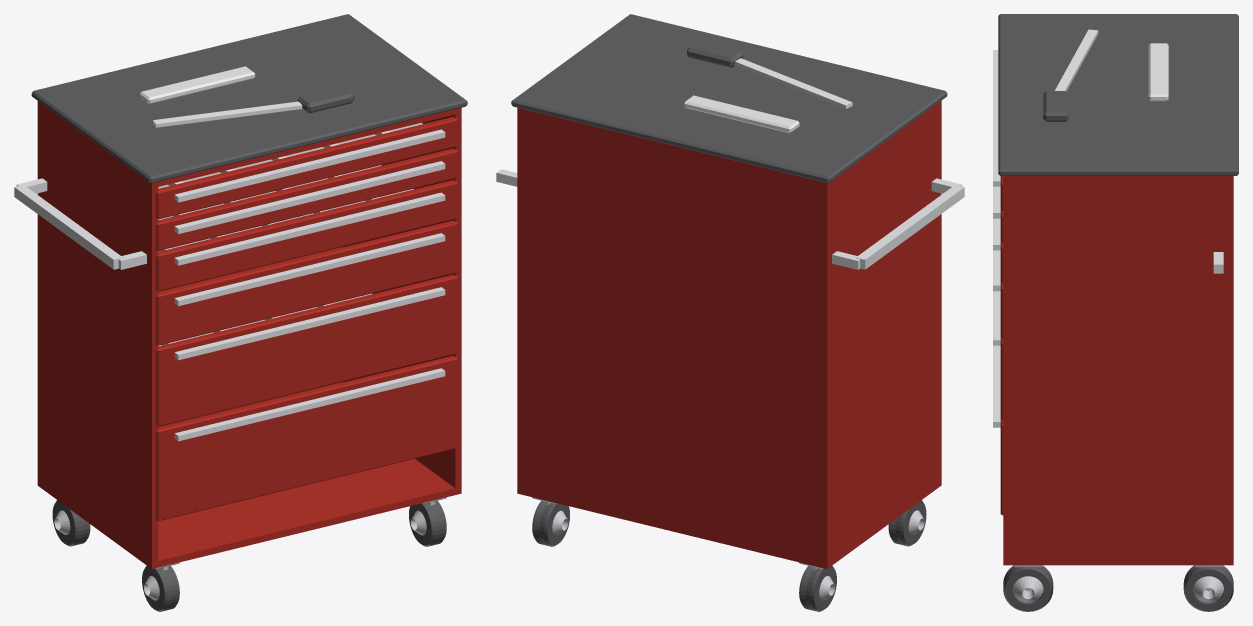
Rendered from carrinho_ferramentas.glb.
3 renders of one model, left to right at view 1: azimuth 30°, elevation 25°; view 2: azimuth 150°, elevation 25°; view 3: azimuth 270°, elevation 25°, orthographic.
Visible parts, largest first — view 1: carrinho_ferramentas_tinta_vermelha, carrinho_ferramentas_borracha, carrinho_ferramentas_gaveta_5_tinta_vermelha, carrinho_ferramentas_cromo, carrinho_ferramentas_gaveta_3_tinta_vermelha, carrinho_ferramentas_gaveta_1_tinta_vermelha, carrinho_ferramentas_aco_polido, carrinho_ferramentas_gaveta_1_cromo, carrinho_ferramentas_gaveta_3_cromo, carrinho_ferramentas_gaveta_5_cromo, carrinho_ferramentas_aco; view 2: carrinho_ferramentas_tinta_vermelha, carrinho_ferramentas_borracha, carrinho_ferramentas_cromo, carrinho_ferramentas_aco_polido, carrinho_ferramentas_aco; view 3: carrinho_ferramentas_tinta_vermelha, carrinho_ferramentas_borracha, carrinho_ferramentas_aco_polido, carrinho_ferramentas_cromo, carrinho_ferramentas_aco, carrinho_ferramentas_gaveta_1_cromo, carrinho_ferramentas_gaveta_5_cromo.
Boxes of the visible parts, x1=… form: carrinho_ferramentas_tinta_vermelha: x1=37, y1=101, x2=461, y2=568; carrinho_ferramentas_borracha: x1=31, y1=14, x2=467, y2=611; carrinho_ferramentas_gaveta_5_tinta_vermelha: x1=156, y1=274, x2=457, y2=426; carrinho_ferramentas_cromo: x1=14, y1=161, x2=445, y2=441; carrinho_ferramentas_gaveta_3_tinta_vermelha: x1=156, y1=180, x2=457, y2=291; carrinho_ferramentas_gaveta_1_tinta_vermelha: x1=156, y1=117, x2=457, y2=219; carrinho_ferramentas_aco_polido: x1=139, y1=66, x2=302, y2=127; carrinho_ferramentas_gaveta_1_cromo: x1=174, y1=129, x2=445, y2=202; carrinho_ferramentas_gaveta_3_cromo: x1=174, y1=192, x2=445, y2=265; carrinho_ferramentas_gaveta_5_cromo: x1=174, y1=287, x2=445, y2=360; carrinho_ferramentas_aco: x1=54, y1=497, x2=446, y2=600; carrinho_ferramentas_tinta_vermelha: x1=517, y1=101, x2=941, y2=568; carrinho_ferramentas_borracha: x1=511, y1=14, x2=947, y2=611; carrinho_ferramentas_cromo: x1=496, y1=169, x2=964, y2=269; carrinho_ferramentas_aco_polido: x1=684, y1=58, x2=852, y2=133; carrinho_ferramentas_aco: x1=532, y1=497, x2=924, y2=600; carrinho_ferramentas_tinta_vermelha: x1=1000, y1=176, x2=1233, y2=565; carrinho_ferramentas_borracha: x1=998, y1=14, x2=1238, y2=611; carrinho_ferramentas_aco_polido: x1=1055, y1=29, x2=1168, y2=101; carrinho_ferramentas_cromo: x1=993, y1=186, x2=1223, y2=427; carrinho_ferramentas_aco: x1=1013, y1=565, x2=1224, y2=602; carrinho_ferramentas_gaveta_1_cromo: x1=993, y1=50, x2=1000, y2=186; carrinho_ferramentas_gaveta_5_cromo: x1=993, y1=291, x2=1000, y2=345.
Size of the model in its own units: 0.851 by 1.02 by 0.49.
